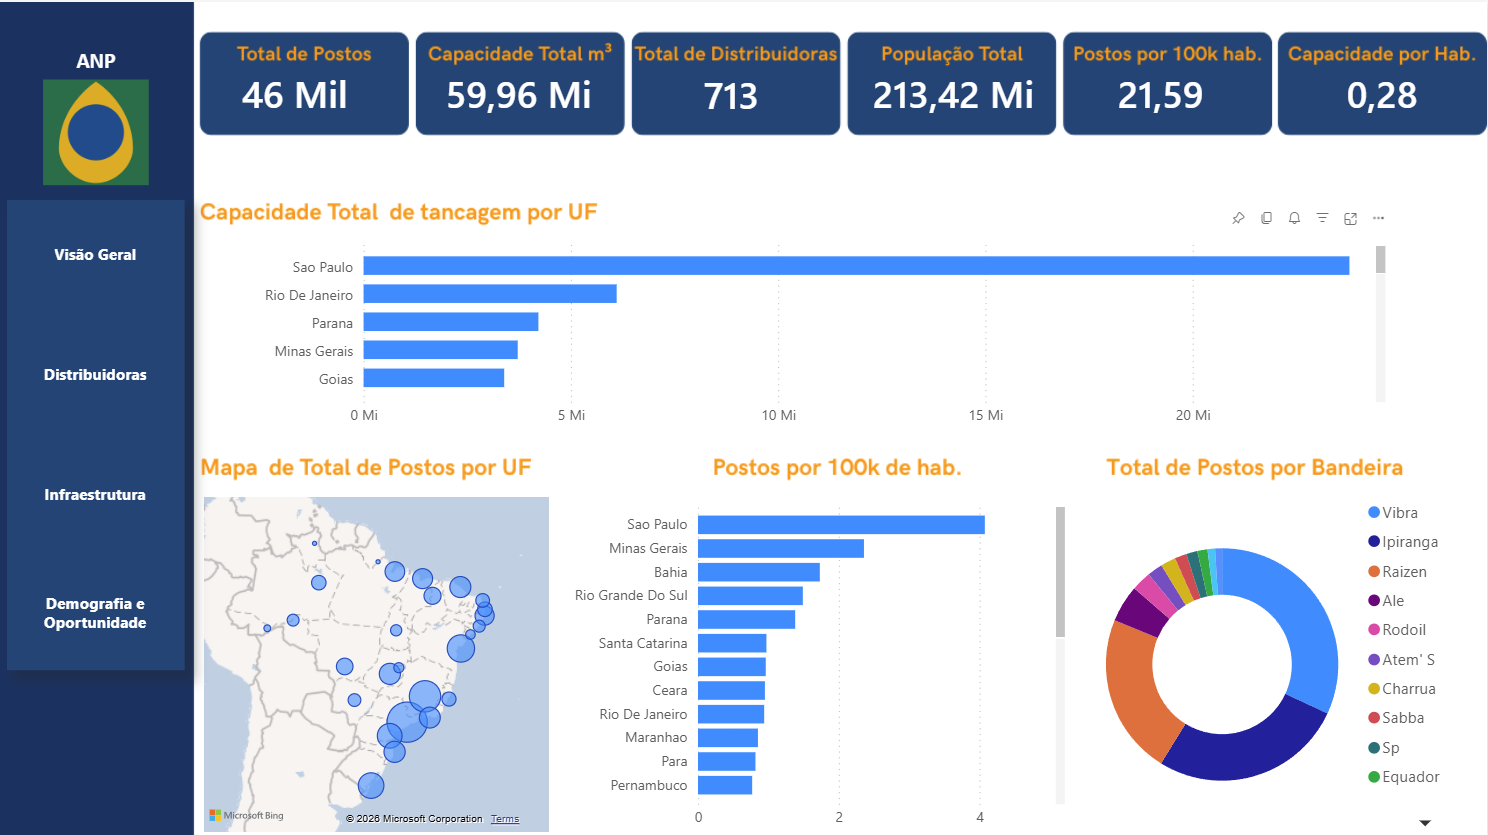

Layout of this report page (visuals, bound fields, positions):
{"tool":"powerbi","page":{"name":"Visão Geral","canvas":[1280,720],"ordinal":0},"visuals":[{"type":"cardVisual","fields":{"Data":["public fato_postos.Total de Postos"]},"box":[179.1,18.6,205.7,115.3],"z":1000},{"type":"cardVisual","fields":{"Data":["public fato_distribuidoras.Total de Distribuidoras"]},"box":[577.2,19.5,205.7,114.4],"z":2000},{"type":"cardVisual","fields":{"Data":["public fato_tancagem.Capacidade Total m³"]},"box":[354.7,18.6,204.8,115.3],"z":3000},{"type":"cardVisual","fields":{"Data":["public fato_populacao.População Total"]},"box":[722.7,18.6,211,114.4],"z":4000},{"type":"cardVisual","fields":{"Data":["public fato_postos.Postos por 100k Hab."]},"box":[933.7,18.6,213.7,115.3],"z":5000},{"type":"cardVisual","fields":{"Data":["public fato_tancagem.Capacidade por Habitante"]},"box":[1130.5,18.6,133.9,115.3],"z":6000},{"type":"barChart","fields":{"Category":["public dim_uf.nome_uf"],"Y":["public fato_postos.Postos por 100k Hab."]},"box":[477,421.2,445.1,298.8],"z":7000},{"type":"barChart","fields":{"Category":["public dim_uf.nome_uf"],"Y":["public fato_tancagem.Capacidade Total m³"]},"box":[179.1,196,1018.8,177.3],"z":8000},{"type":"donutChart","fields":{"Category":["public fato_postos.bandeira"],"Y":["public fato_postos.Total de Postos"]},"box":[922.2,421.2,358.2,298.8],"z":9000},{"type":"map","fields":{"Size":["public fato_postos.Total de Postos"],"Category":["public dim_uf.nome_uf"]},"box":[170.2,421.2,306.8,298.8],"z":10000},{"type":"pageNavigator","box":[6.2,170.2,152.5,405.2],"z":11000},{"type":"image","title":"ANP","box":[23.9,39,117,118.8],"z":11001}]}

Visuals, with their boxes on the page's 1280x720 design canvas (x1, y1, x2, y2). These are canvas units, not pixel positions in the 1488x835 screenshot, which may show the page scaled, cropped or inside an application window:
cardVisual - public fato_postos.Total de Postos: <bbox>179, 19, 385, 134</bbox>
cardVisual - public fato_distribuidoras.Total de Distribuidoras: <bbox>577, 20, 783, 134</bbox>
cardVisual - public fato_tancagem.Capacidade Total m³: <bbox>355, 19, 560, 134</bbox>
cardVisual - public fato_populacao.População Total: <bbox>723, 19, 934, 133</bbox>
cardVisual - public fato_postos.Postos por 100k Hab.: <bbox>934, 19, 1147, 134</bbox>
cardVisual - public fato_tancagem.Capacidade por Habitante: <bbox>1130, 19, 1264, 134</bbox>
barChart - public dim_uf.nome_uf x public fato_postos.Postos por 100k Hab.: <bbox>477, 421, 922, 720</bbox>
barChart - public dim_uf.nome_uf x public fato_tancagem.Capacidade Total m³: <bbox>179, 196, 1198, 373</bbox>
donutChart - public fato_postos.bandeira x public fato_postos.Total de Postos: <bbox>922, 421, 1280, 720</bbox>
map - public fato_postos.Total de Postos x public dim_uf.nome_uf: <bbox>170, 421, 477, 720</bbox>
pageNavigator: <bbox>6, 170, 159, 575</bbox>
"ANP" image: <bbox>24, 39, 141, 158</bbox>
